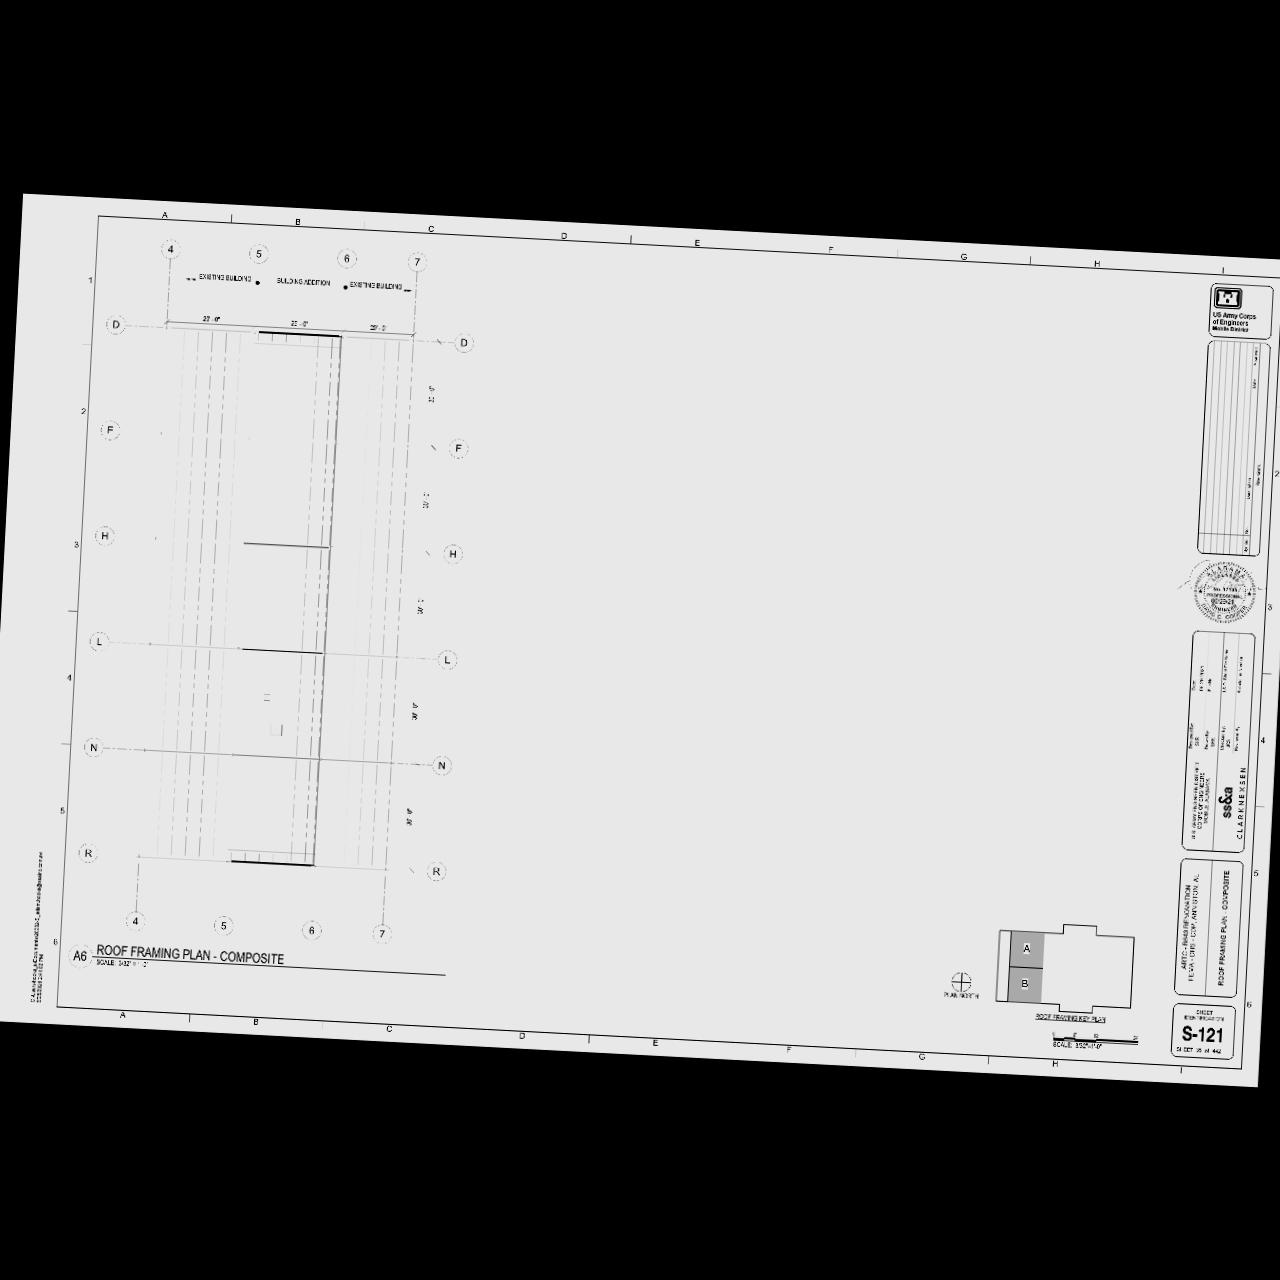title: (64, 934, 454, 993)
